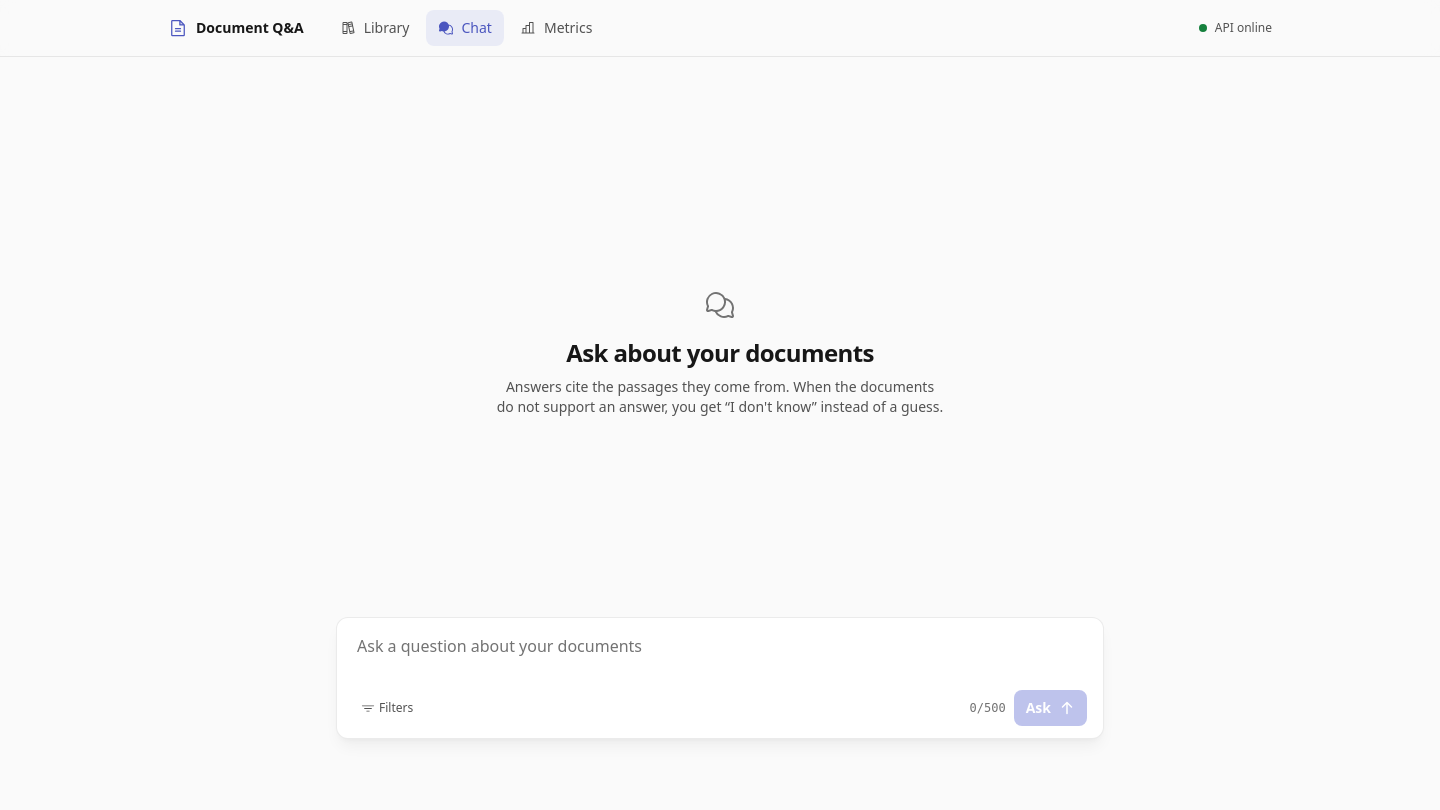
Scenario: citations › opens the full passage from a citation chip
Type "How do I install?" into the text box labelled "question" at x=720, y=658, box [345,626,1095,690]
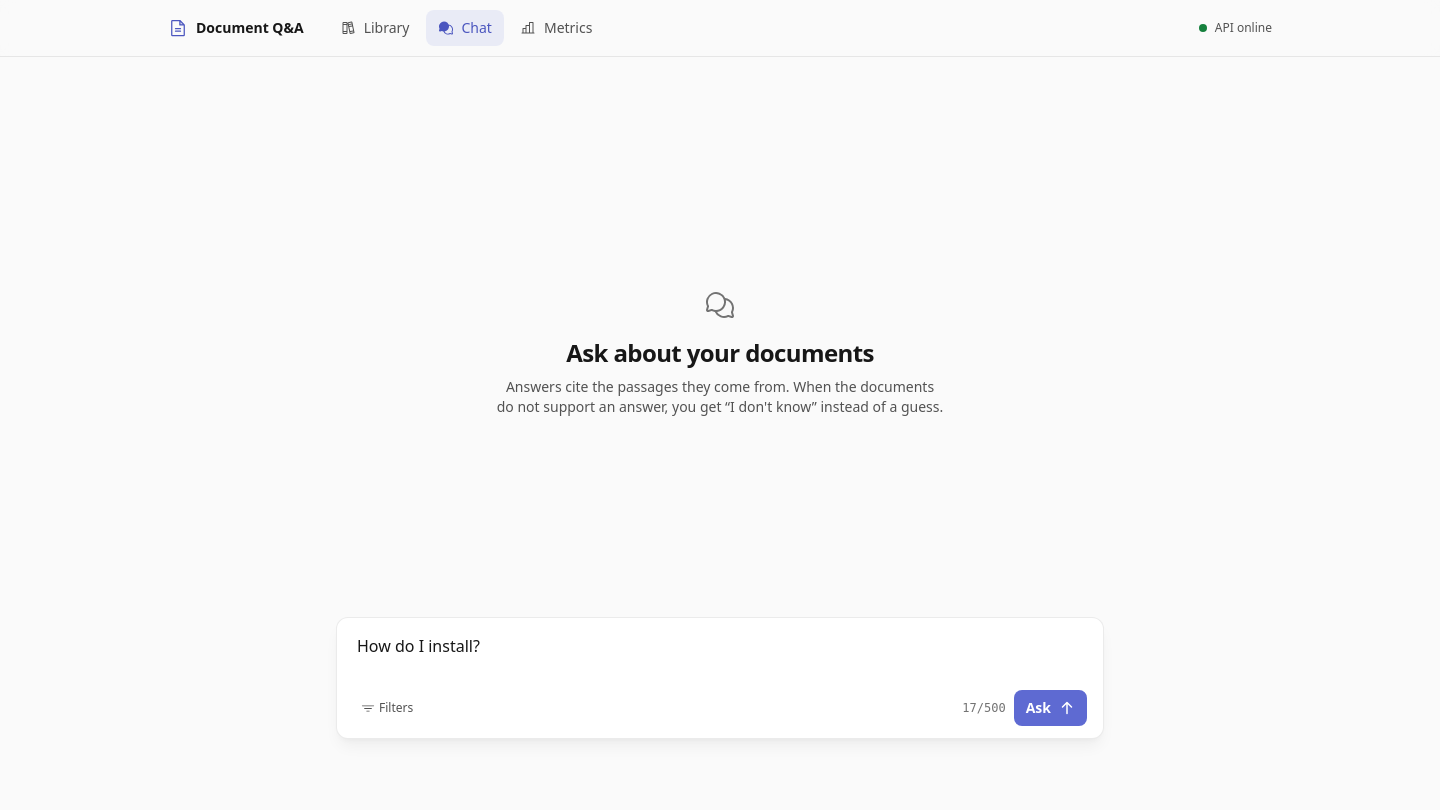
Click the button "Ask" at x=1050, y=708, box [1014,690,1087,726]
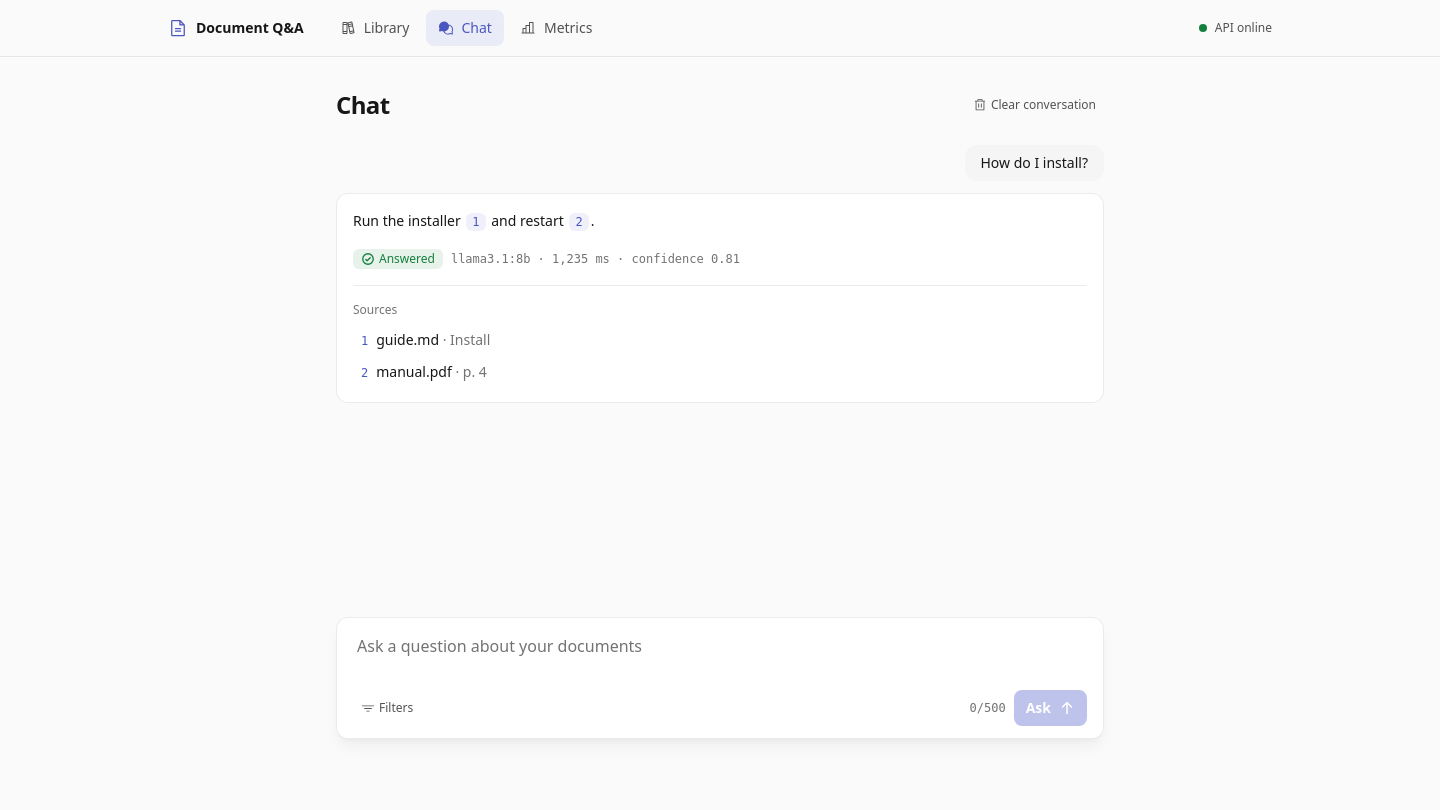
Click the button named "Source 2: manual.pdf" at x=579, y=222, box [570,213,589,231]
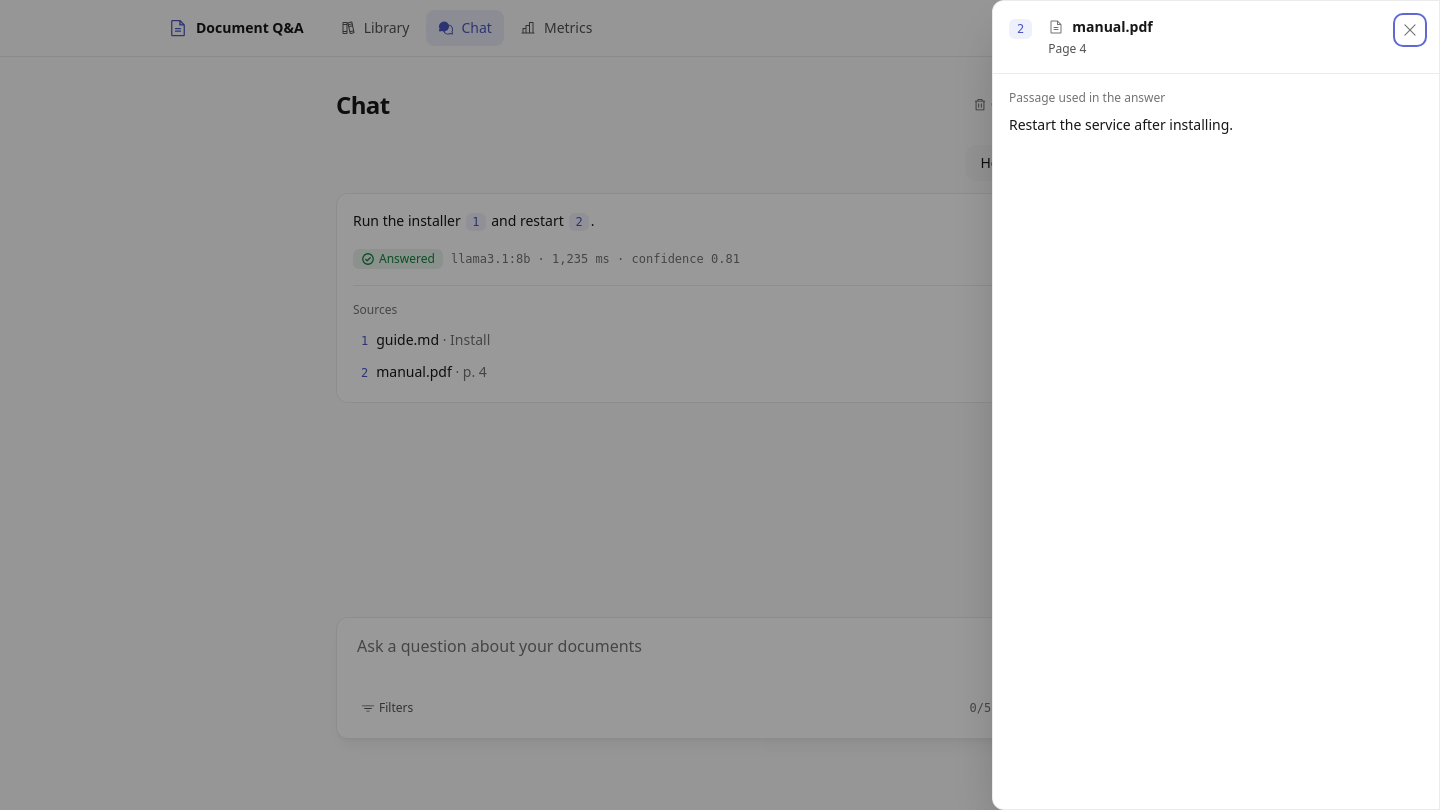
Check: the text "Restart the service after installing." is shown, box [1009,115,1233,134]
Check: the text "Page 4" is shown, box [1048,40,1086,57]
Click the button named "Close passage" at x=1410, y=30, box [1397,17,1423,43]
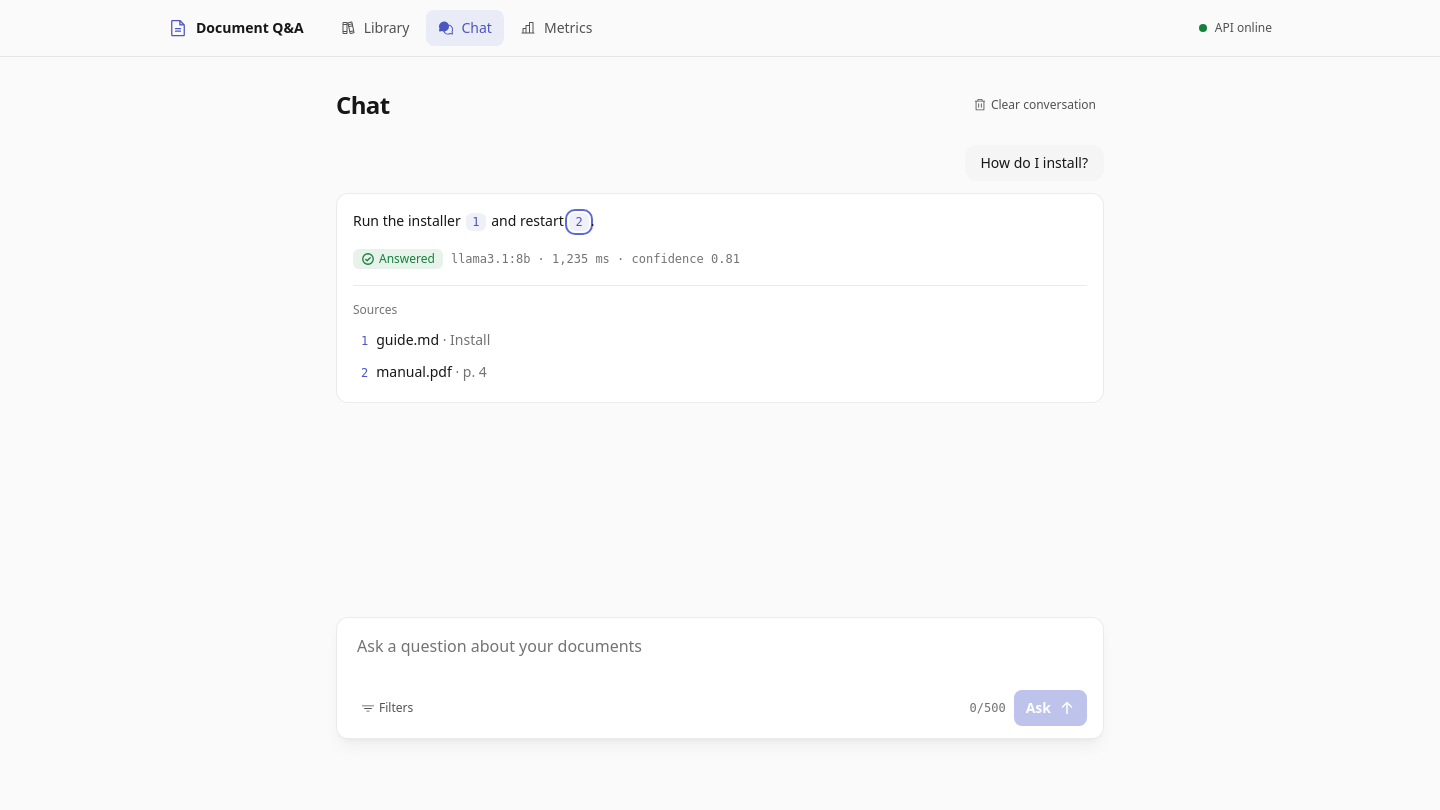
Check: the text "Restart the service after installing." is gone
